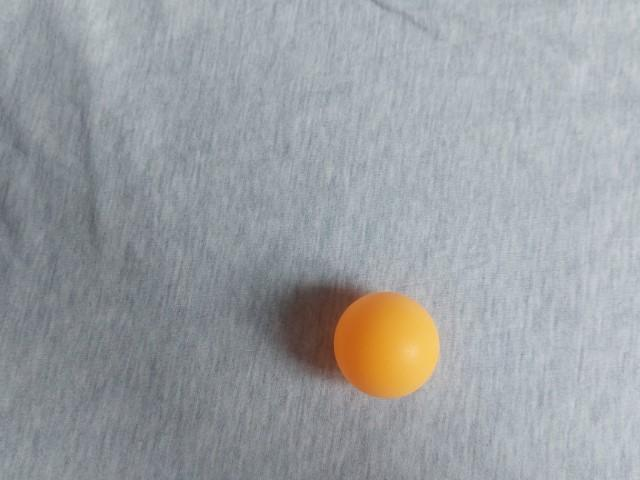oball: (192, 76, 312, 195)
